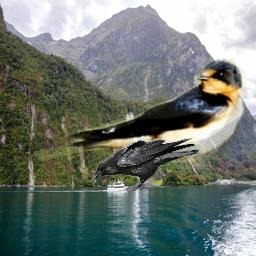Crow: (92, 138, 200, 191)
Swallow: (33, 58, 247, 169)
